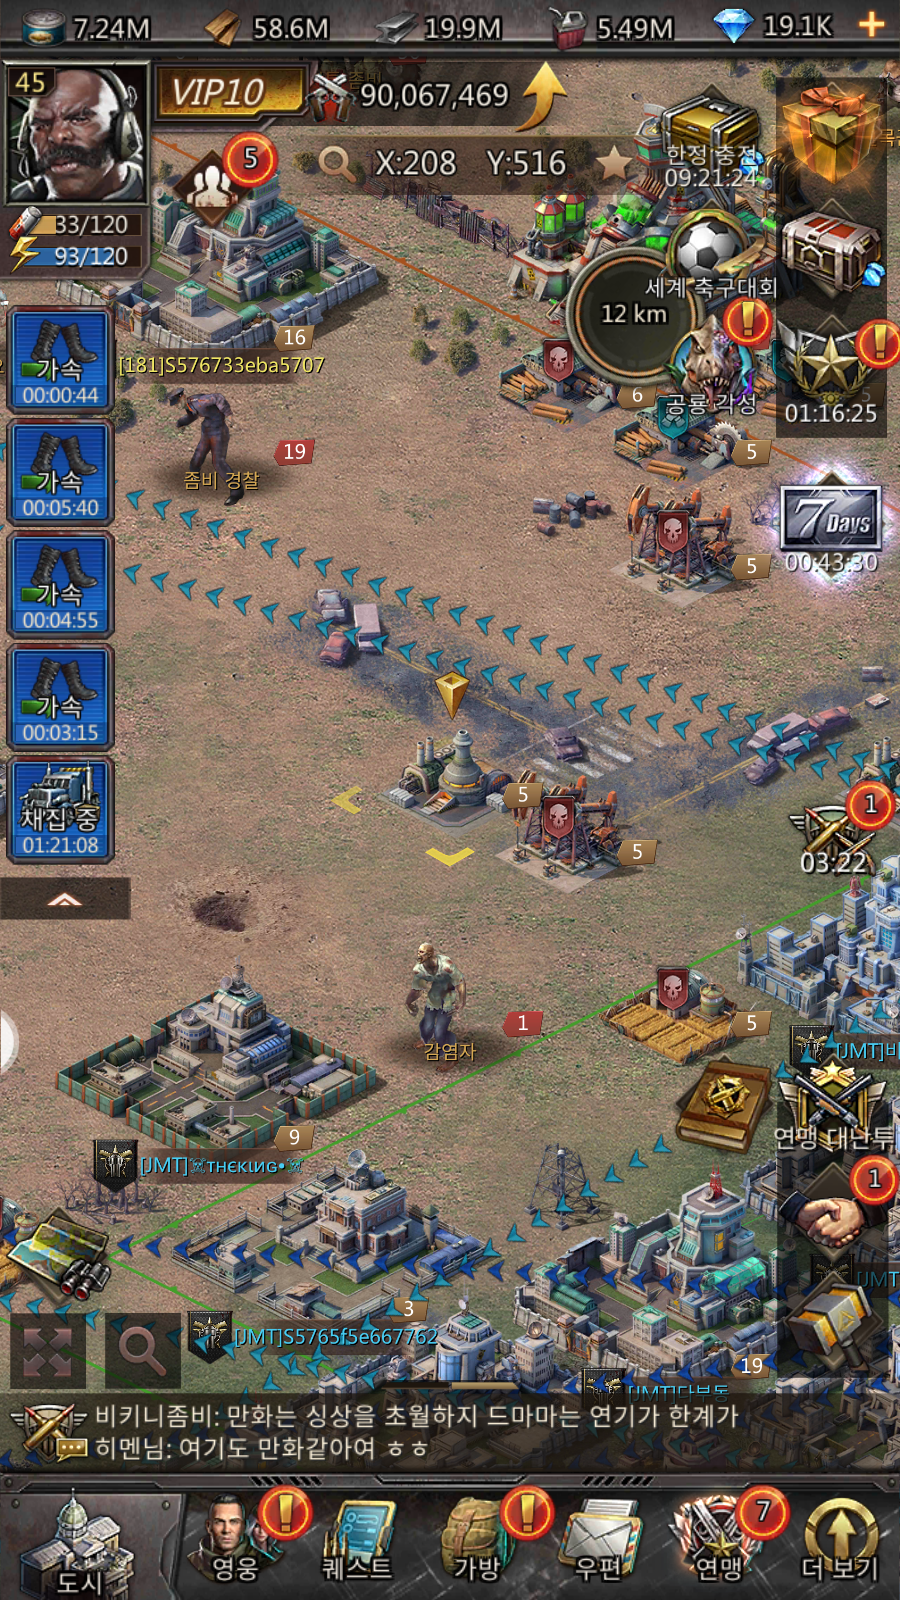city: (12, 1493, 179, 1600)
empty_steel: (315, 656, 593, 880)
open_panel: (96, 1291, 198, 1405)
troops_cnt_5: (135, 120, 300, 251)
